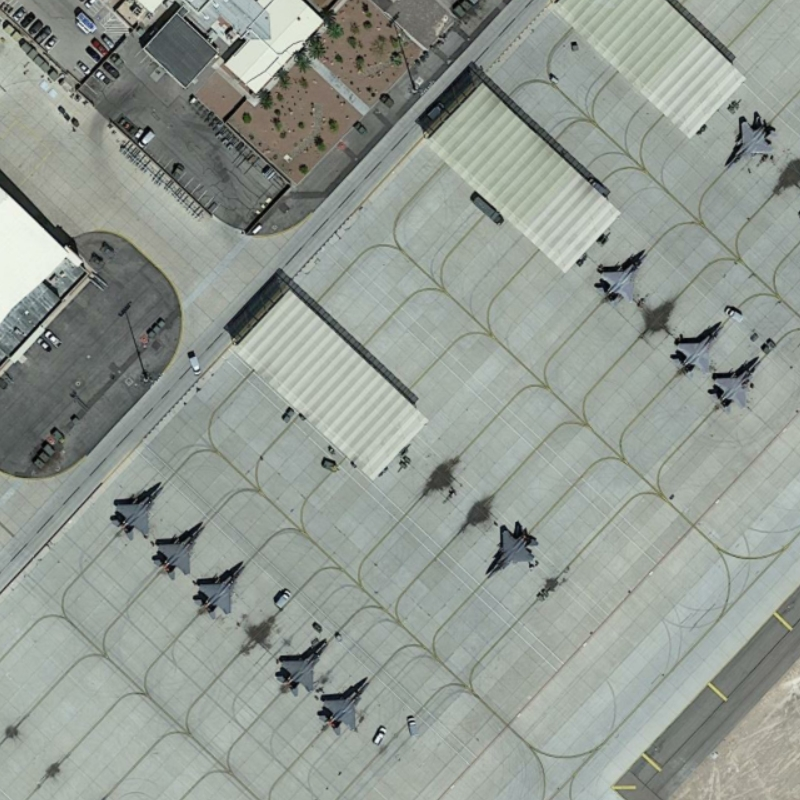A13: (191, 561, 249, 620), (272, 640, 330, 697), (108, 484, 165, 542), (151, 524, 208, 581), (316, 678, 370, 738), (594, 249, 651, 305), (484, 524, 539, 582), (722, 116, 779, 170), (709, 358, 763, 414), (670, 323, 725, 376)
